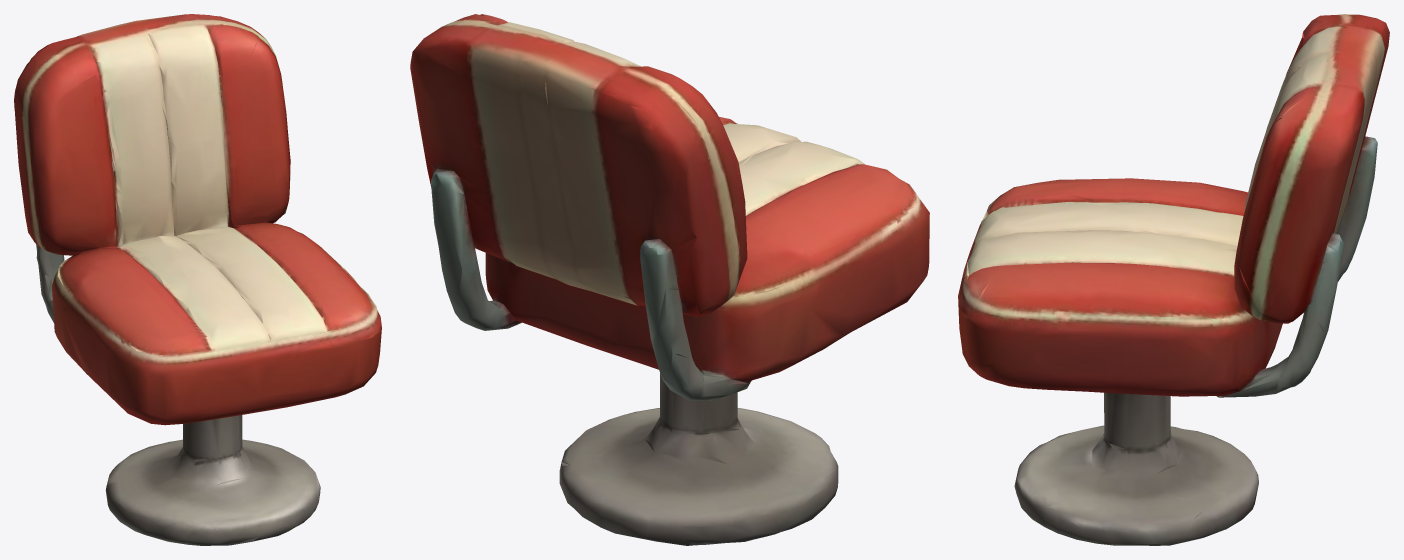
The model's file is chair24.glb.
3 views of the same model, side by side, from view 1: azimuth 30°, elevation 25°; view 2: azimuth 150°, elevation 25°; view 3: azimuth 270°, elevation 25° (orthographic). The views are drawn at different scales.
Size of the model in its own units: 0.1642 by 0.2378 by 0.2023.
Materials: 1 (1 with a texture image).
